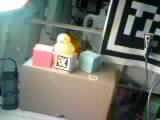duck: (50, 29, 77, 54)
